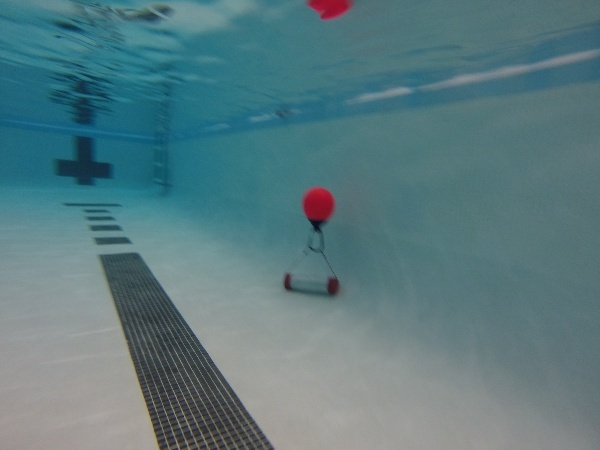buoy_red: (297, 188, 337, 227)
